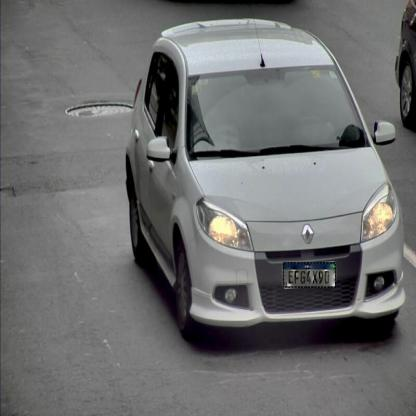PlacaM: (283, 262, 336, 288)
